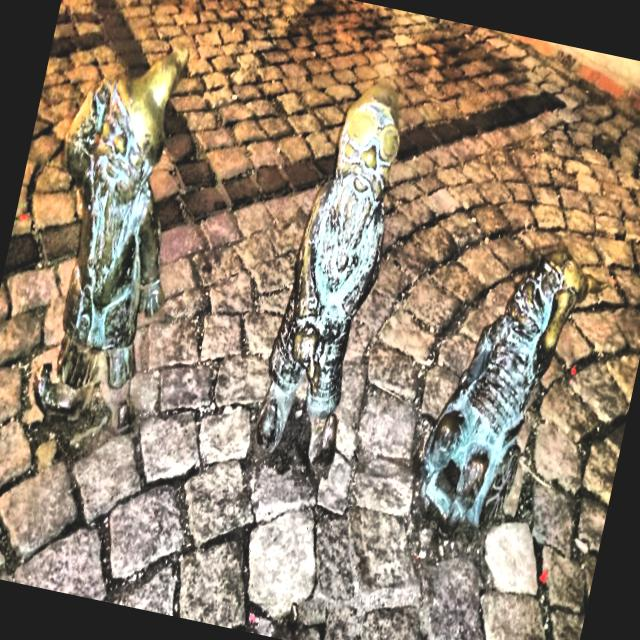Gluchak: (33, 48, 188, 433)
Slepak: (255, 86, 400, 473)
W-Skers: (420, 249, 590, 525)
